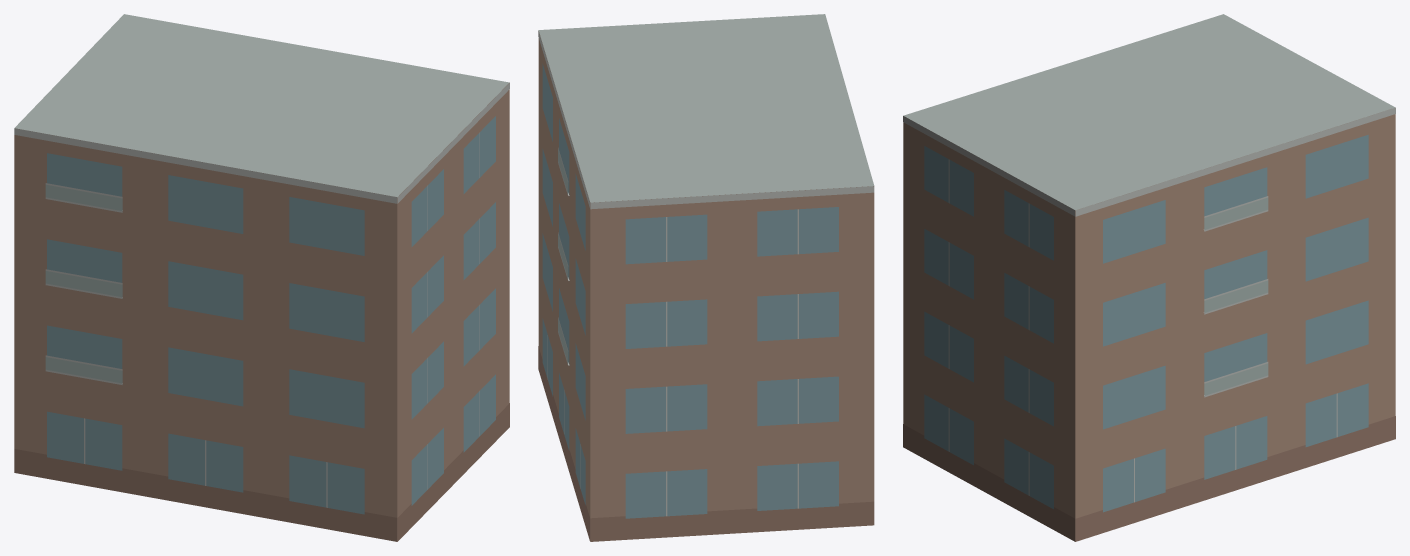
File: survey-upis-32728463.glb
The picture shows the model from 3 angles, left to right: view 1: azimuth 30°, elevation 25°; view 2: azimuth 150°, elevation 25°; view 3: azimuth 270°, elevation 25°; orthographic projection. The views are drawn at different scales.
Visible parts, largest first — view 1: survey-upis-32728463.tmp; view 2: survey-upis-32728463.tmp; view 3: survey-upis-32728463.tmp.
Boxes of the visible parts, x1,y1,x2,y2 form: survey-upis-32728463.tmp: (14,14,509,541); survey-upis-32728463.tmp: (538,14,874,541); survey-upis-32728463.tmp: (903,14,1395,541).
Bounding box in the file's own units: 15.94 × 12.54 × 16.89.
